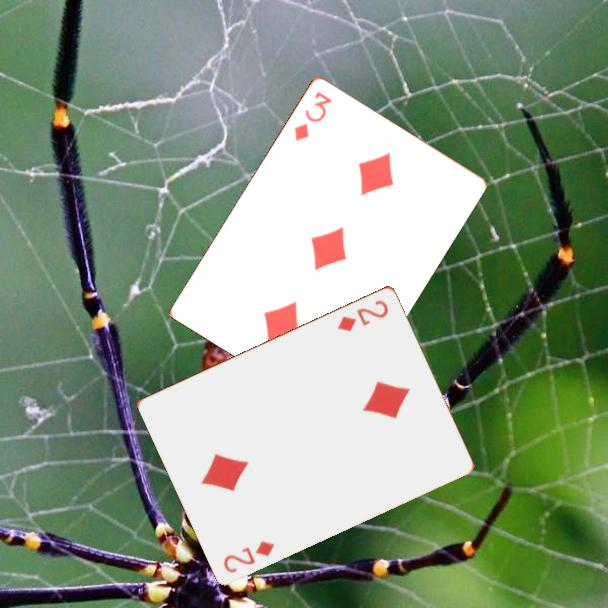d02: (220, 536, 277, 576), (334, 296, 392, 334)
d03: (291, 87, 335, 144)
